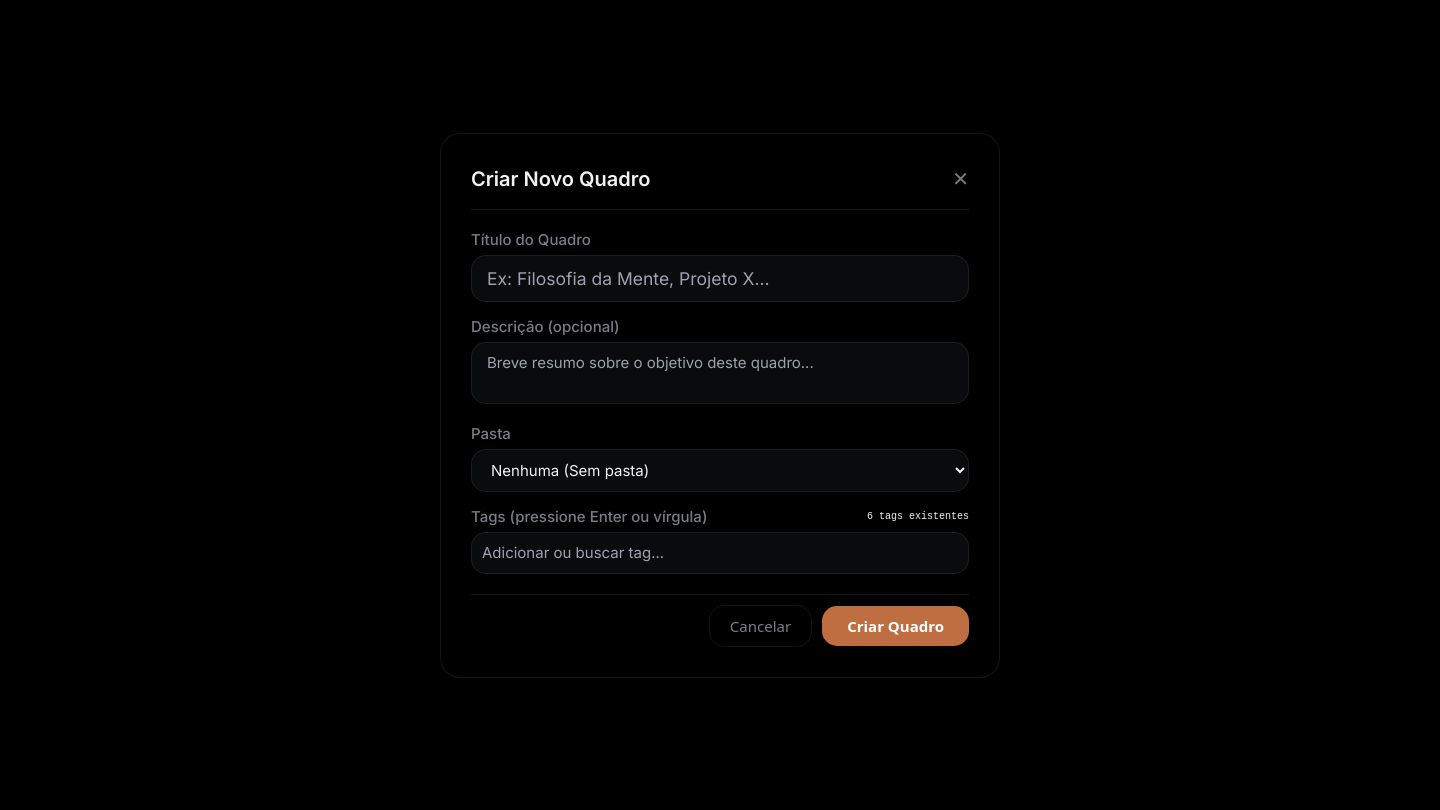
CanvasActionModals - Busca e Seleção de Tags › renderiza sugestões de tags existentes ao focar ou digitar no campo de tag
Note: Foca no input para abrir o dropdown
Focus the field with placeholder "Adicionar ou buscar tag..." at (720, 552), box [482,542,958,562]
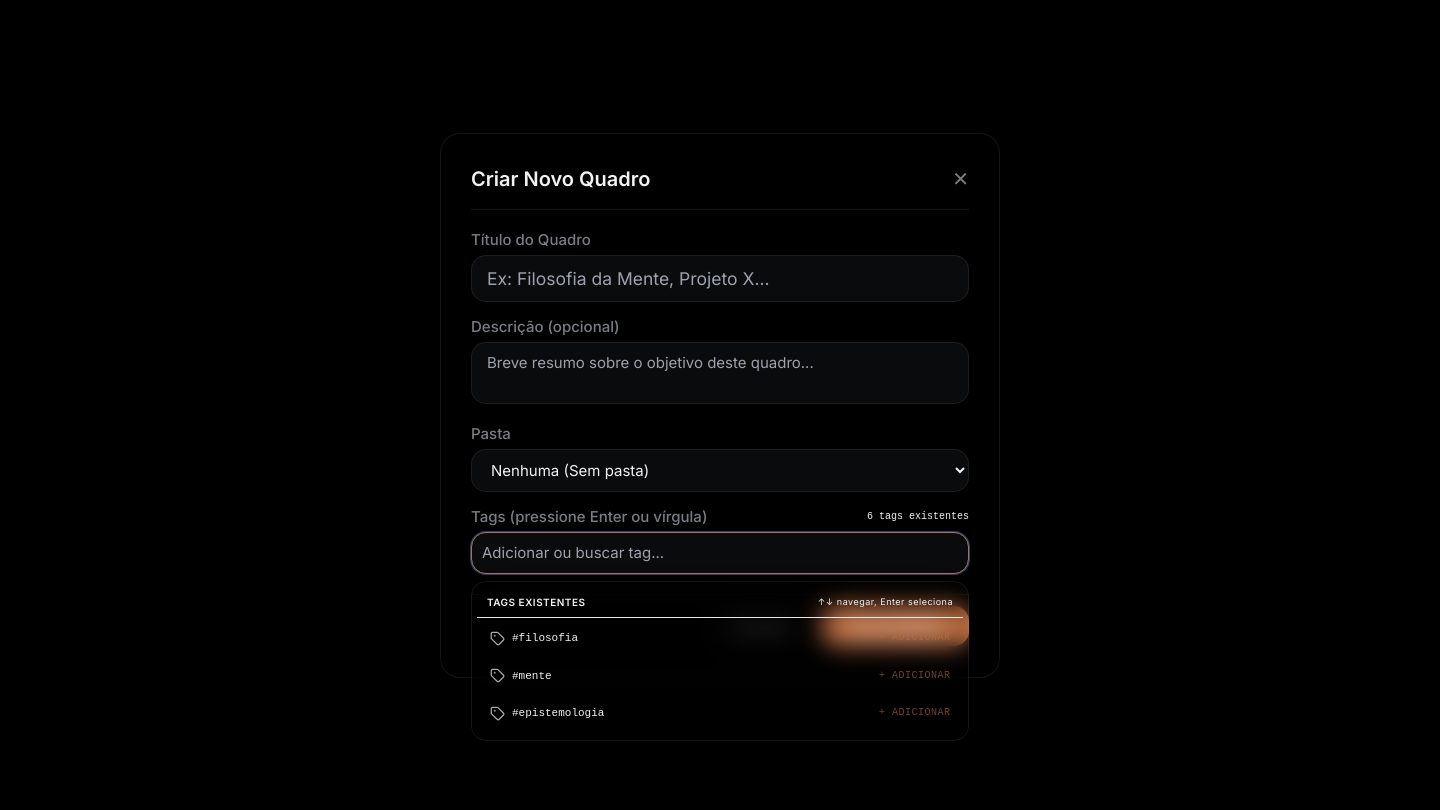
Check: the button "#filosofia + adicionar" is shown, box [477,620,963,656]
